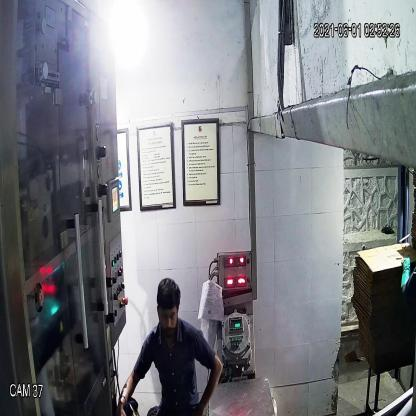no_goggles: (155, 304, 182, 324)
